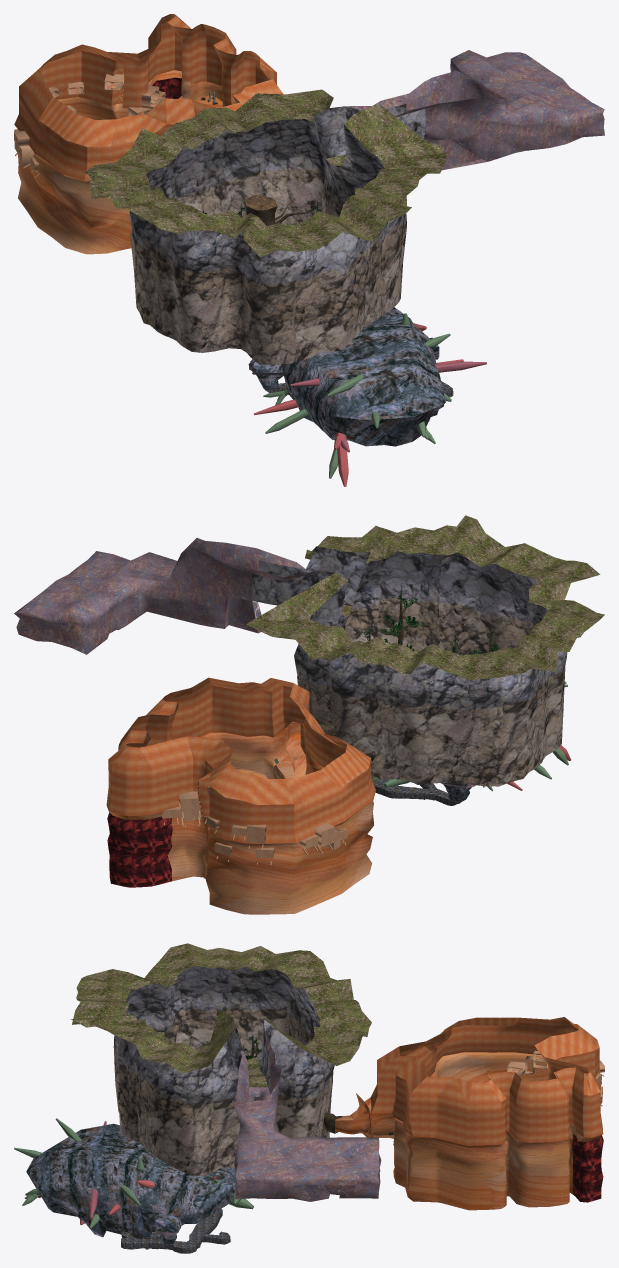
File: gorilla-tag-map.glb
3 views of the same model, one above another, from view 1: azimuth 30°, elevation 25°; view 2: azimuth 150°, elevation 25°; view 3: azimuth 270°, elevation 25° (orthographic). The views are drawn at different scales.
Parts seen in each view (by area): view 1: gorilla_map_node_28, gorilla_map_node_27, gorilla_map_node_29, gorilla_map_node_0, gorilla_map_node_24, gorilla_map_node_15, gorilla_map_node_10, gorilla_map_node_5, gorilla_map_node_20, gorilla_map_node_23, gorilla_map_node_22; view 2: gorilla_map_node_0, gorilla_map_node_28, gorilla_map_node_29, gorilla_map_node_27, gorilla_map_node_24, gorilla_map_node_10, gorilla_map_node_12, gorilla_map_node_5, gorilla_map_node_16, gorilla_map_node_32, gorilla_map_node_34; view 3: gorilla_map_node_0, gorilla_map_node_10, gorilla_map_node_27, gorilla_map_node_29, gorilla_map_node_28, gorilla_map_node_15, gorilla_map_node_24, gorilla_map_node_16, gorilla_map_node_12, gorilla_map_node_20, gorilla_map_node_5.
Part boxes in pixels (<box>): gorilla_map_node_28: <box>130,168,406,364</box>; gorilla_map_node_27: <box>84,89,448,257</box>; gorilla_map_node_29: <box>129,104,425,285</box>; gorilla_map_node_0: <box>14,14,283,181</box>; gorilla_map_node_24: <box>346,50,604,170</box>; gorilla_map_node_15: <box>248,307,445,446</box>; gorilla_map_node_10: <box>18,70,222,254</box>; gorilla_map_node_5: <box>14,73,165,178</box>; gorilla_map_node_20: <box>263,313,451,478</box>; gorilla_map_node_23: <box>253,323,463,486</box>; gorilla_map_node_22: <box>290,361,486,452</box>; gorilla_map_node_0: <box>106,677,375,843</box>; gorilla_map_node_28: <box>297,597,565,786</box>; gorilla_map_node_29: <box>251,546,567,710</box>; gorilla_map_node_27: <box>246,515,604,679</box>; gorilla_map_node_24: <box>14,538,318,654</box>; gorilla_map_node_10: <box>109,724,373,914</box>; gorilla_map_node_12: <box>107,812,172,887</box>; gorilla_map_node_5: <box>162,786,347,865</box>; gorilla_map_node_16: <box>373,779,464,805</box>; gorilla_map_node_32: <box>317,587,500,778</box>; gorilla_map_node_34: <box>364,593,499,654</box>; gorilla_map_node_0: <box>350,1017,603,1145</box>; gorilla_map_node_10: <box>335,1052,602,1210</box>; gorilla_map_node_27: <box>71,943,371,1087</box>; gorilla_map_node_29: <box>114,965,334,1105</box>; gorilla_map_node_28: <box>113,1008,333,1175</box>; gorilla_map_node_15: <box>26,1123,236,1244</box>; gorilla_map_node_24: <box>232,1027,381,1201</box>; gorilla_map_node_16: <box>106,1209,230,1253</box>; gorilla_map_node_12: <box>572,1134,603,1202</box>; gorilla_map_node_20: <box>14,1118,253,1249</box>; gorilla_map_node_5: <box>507,1050,604,1106</box>.
Size of the model in its own units: 253 by 130 by 298.
Materials: 47 (47 with a texture image).
